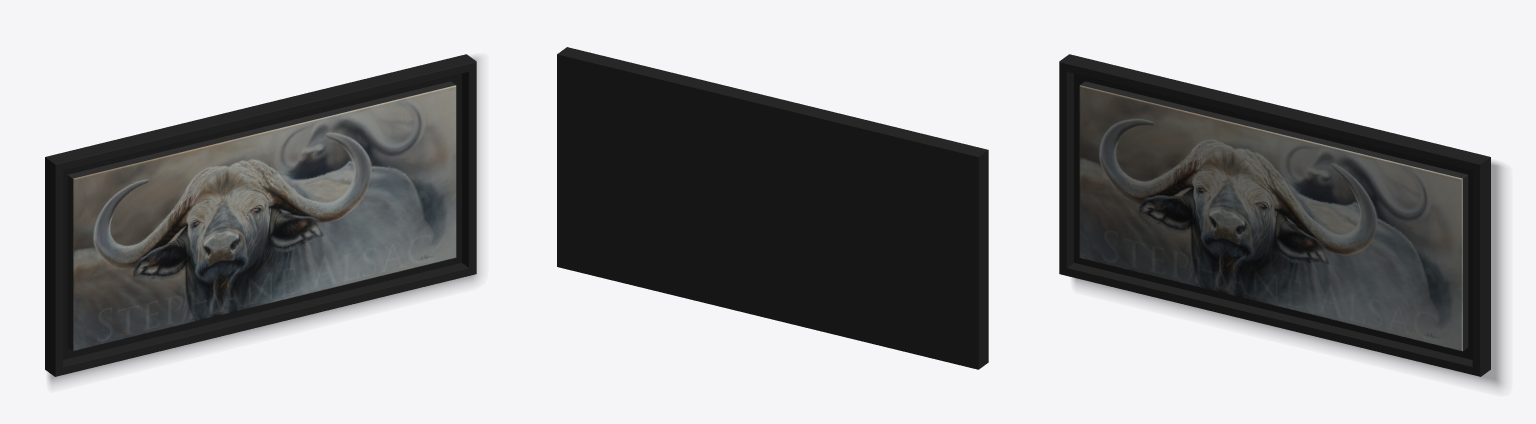
Rendered from peinture-tableau-buffle-lastwarning-classique-17abed37.glb.
3 views of the same model, side by side, from view 1: azimuth 30°, elevation 25°; view 2: azimuth 150°, elevation 25°; view 3: azimuth 330°, elevation 25° (orthographic).
Parts seen in each view (by area): view 1: Painting; view 2: Painting; view 3: Painting.
Part boxes in pixels (left/top/right/bottom): Painting: left=45, top=54, right=479, bottom=384; Painting: left=557, top=47, right=988, bottom=369; Painting: left=1059, top=54, right=1503, bottom=387.
Size of the model in its own units: 1.09 by 0.596 by 0.04.
5 materials, 3 textured.
